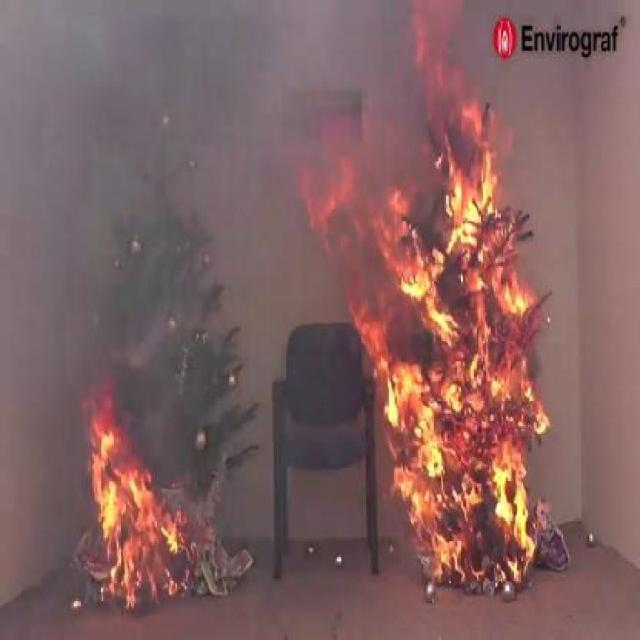fire: (308, 156, 552, 601), (40, 362, 196, 572)
smoke: (18, 26, 412, 280)
